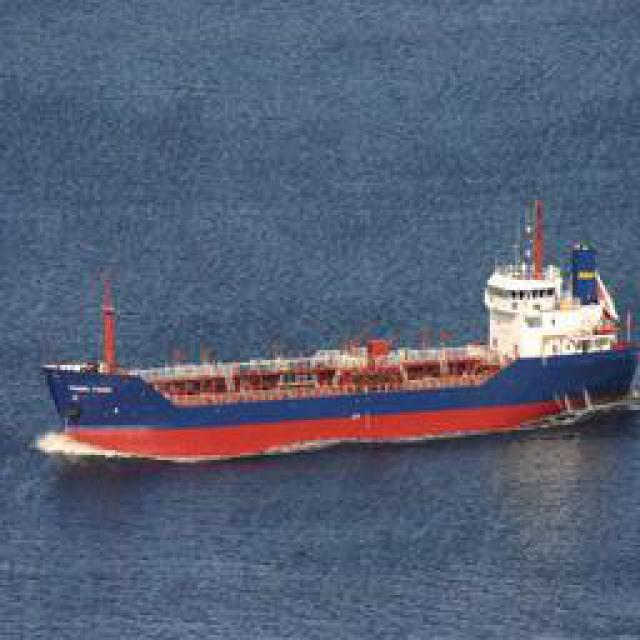Ship: (42, 212, 632, 465)
